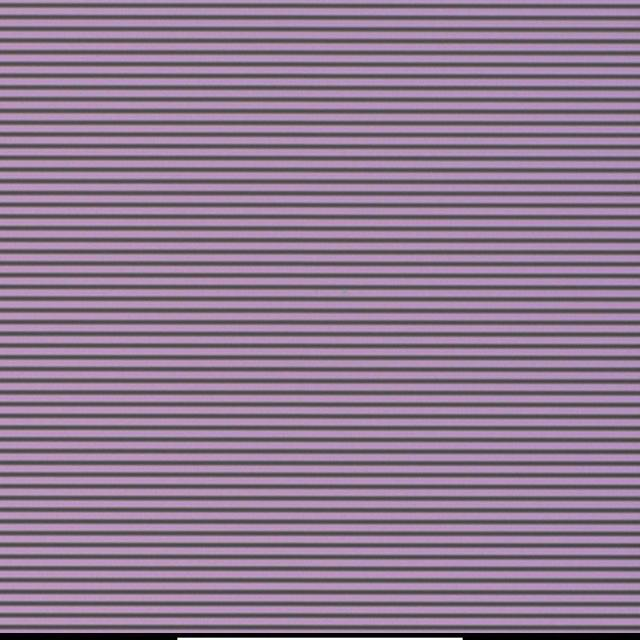nonvisual: (339, 286, 350, 296)
